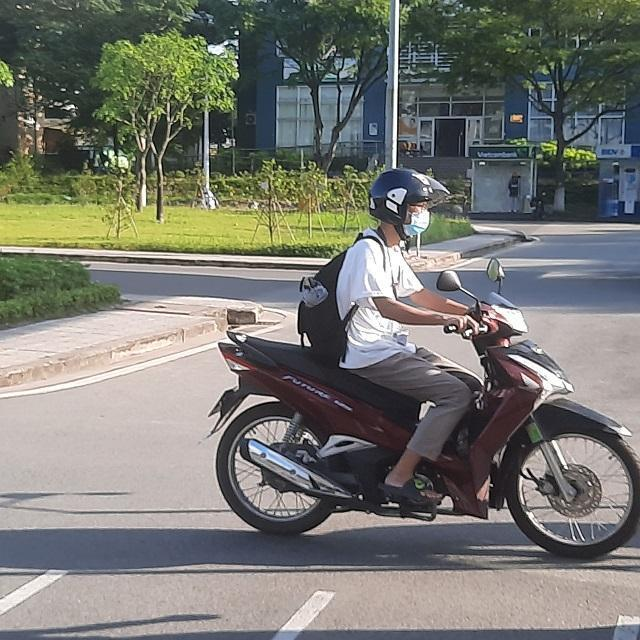Helmet: (366, 165, 449, 243)
